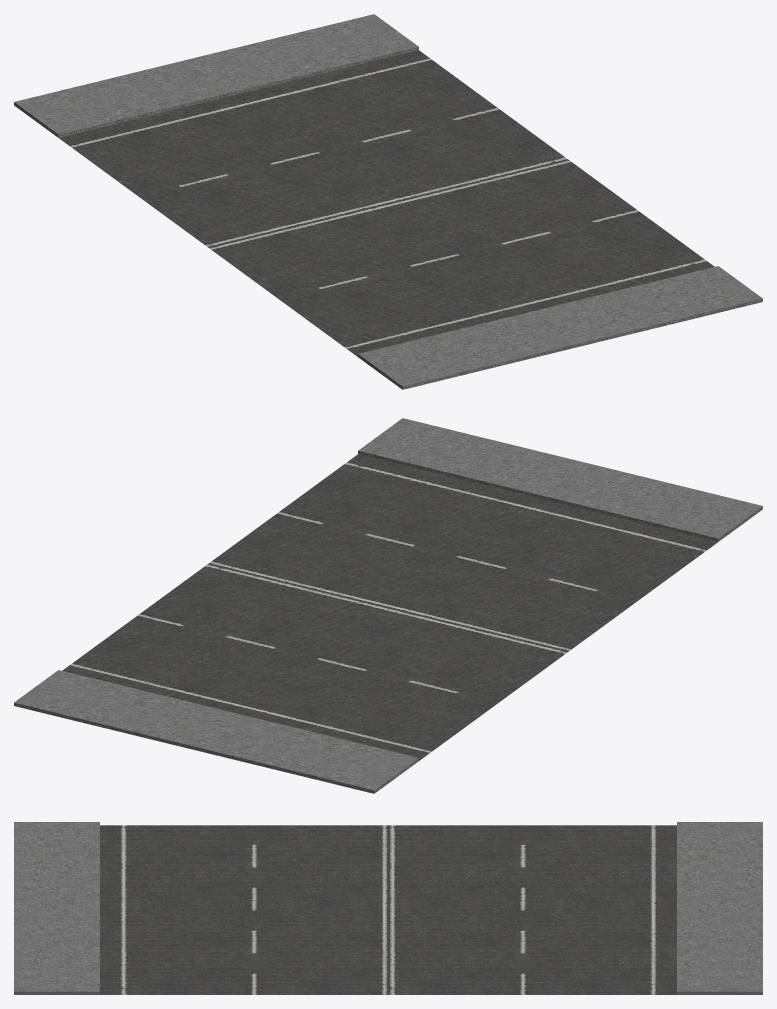
File: Highway_Straight.obj
3 renders of one model, top to bottom at view 1: azimuth 30°, elevation 25°; view 2: azimuth 150°, elevation 25°; view 3: azimuth 270°, elevation 25°, orthographic. The views are drawn at different scales.
Visible parts, largest first — view 1: Highway_Straight; view 2: Highway_Straight; view 3: Highway_Straight.
Boxes of the visible parts, bbox=[...] form: Highway_Straight: bbox=[14, 14, 762, 389]; Highway_Straight: bbox=[14, 418, 762, 793]; Highway_Straight: bbox=[14, 822, 762, 994].
Bounding box in the file's own units: 13 × 0.1182 × 24.29.
